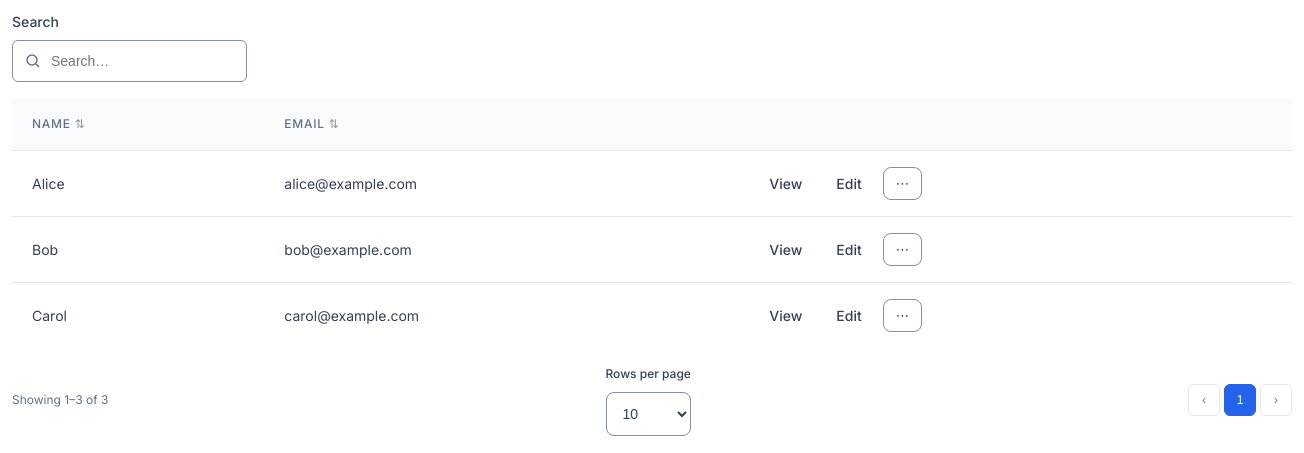
Test case: DataTable — row actions › overflows the 3rd+ action into a menu once there are more than 3
Check: the button with aria-label "View — Alice" is shown, box [756,168,815,200]
Check: the button with aria-label "Edit — Alice" is shown, box [823,168,875,200]
Click the button named "More actions for Alice": (902, 184) [883,167,922,200]
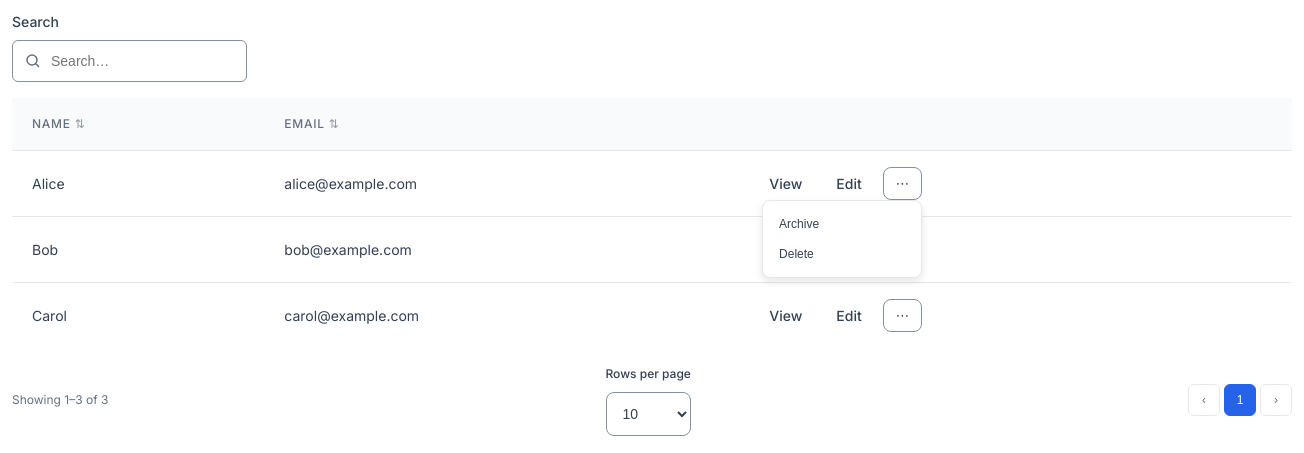
Check: the menu item "Archive" is shown, box [763,209,921,239]
Check: the menu item "Delete" is shown, box [763,239,921,269]
